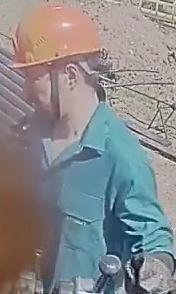gloves: (120, 243, 176, 292)
helmet: (11, 2, 100, 68)
vest: (5, 104, 168, 287)
